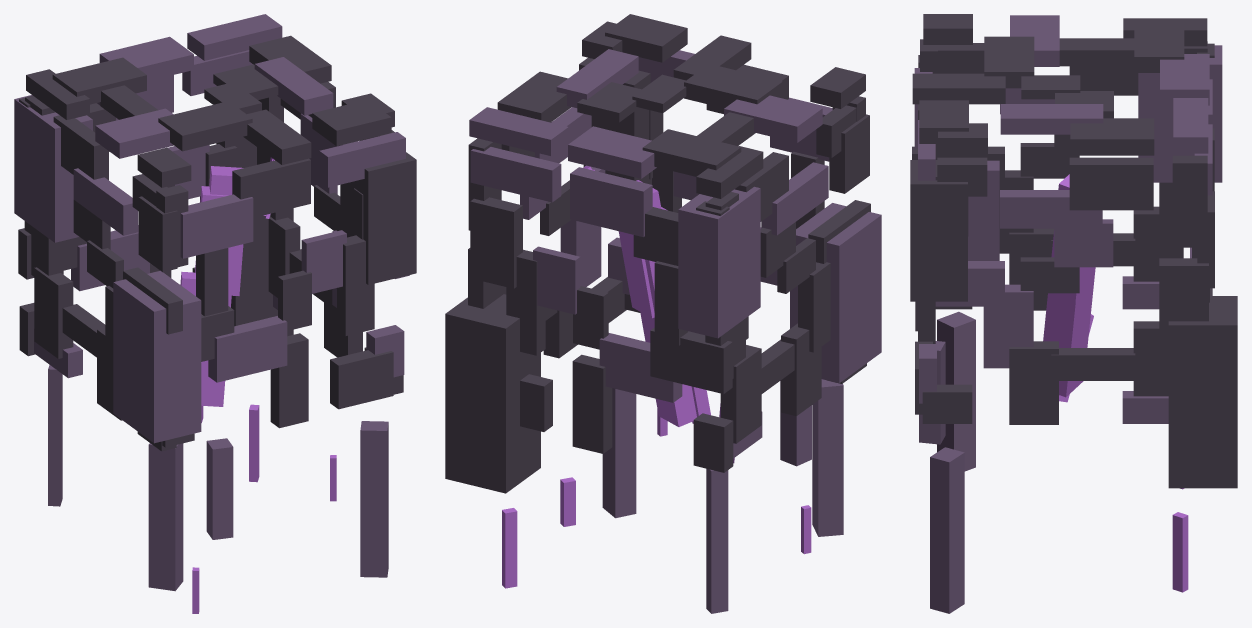
The model's file is Stool.fbx.
The picture shows the model from 3 angles, left to right: view 1: azimuth 30°, elevation 25°; view 2: azimuth 150°, elevation 25°; view 3: azimuth 270°, elevation 25°; orthographic projection. The views are drawn at different scales.
Visible parts, largest first — view 1: polySurface2; view 2: polySurface2; view 3: polySurface2.
Part boxes in pixels (x1,y1,x2,y2): polySurface2: (14,14,416,613); polySurface2: (445,14,881,613); polySurface2: (910,14,1237,613).
Size of the model in its own units: 3.72 by 6.32 by 3.9.
